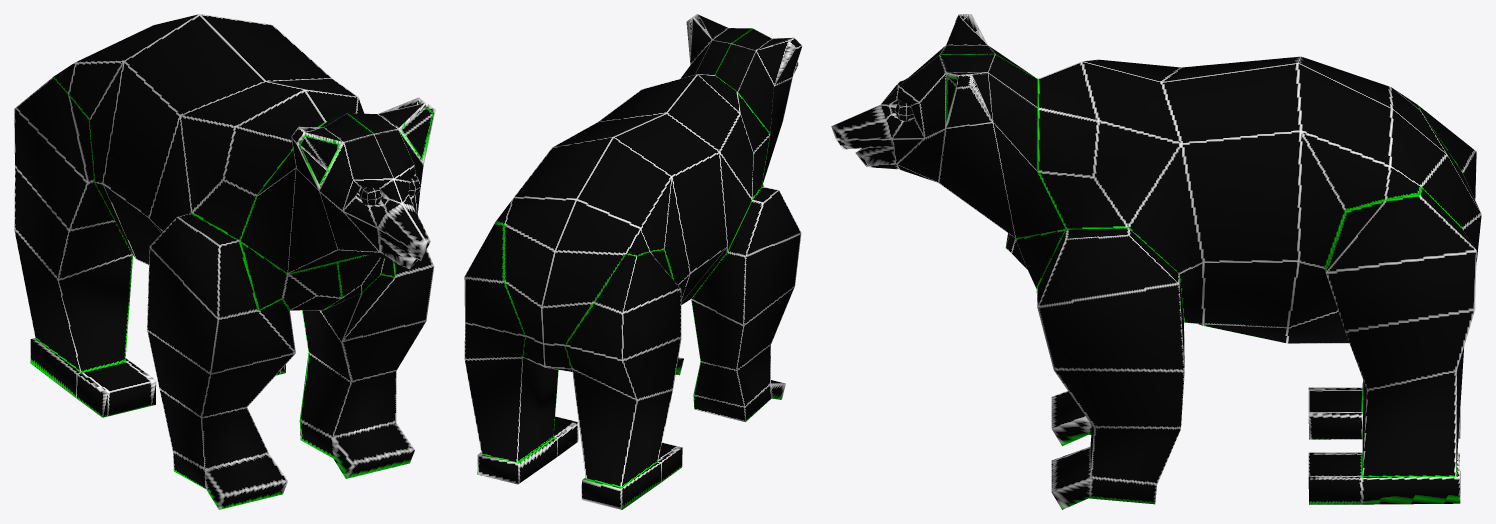
The model's file is Bear.FBX.
3 renders of one model, left to right at view 1: azimuth 30°, elevation 25°; view 2: azimuth 150°, elevation 25°; view 3: azimuth 270°, elevation 25°, orthographic. The views are drawn at different scales.
Visible parts, largest first — view 1: Bear, Eyes; view 2: Bear; view 3: Bear.
Part boxes in pixels (x1,y1,x2,y2): Bear: [14, 14, 435, 509]; Eyes: [359, 175, 420, 205]; Bear: [464, 14, 802, 509]; Bear: [831, 14, 1481, 509].
Bounding box in the file's own units: 11.38 × 20.51 × 28.93.
Materials: 1 (1 with a texture image).
